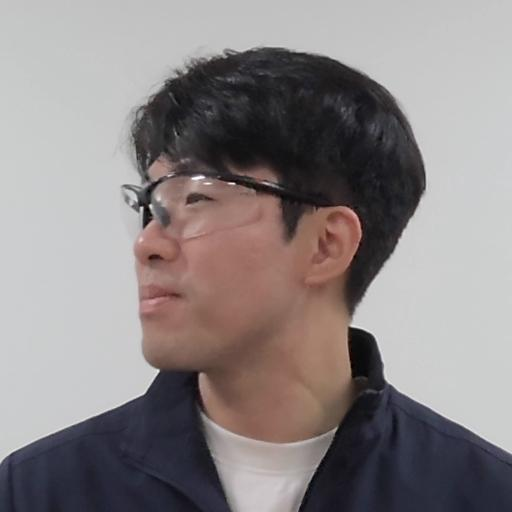glasses: (116, 37, 437, 389)
